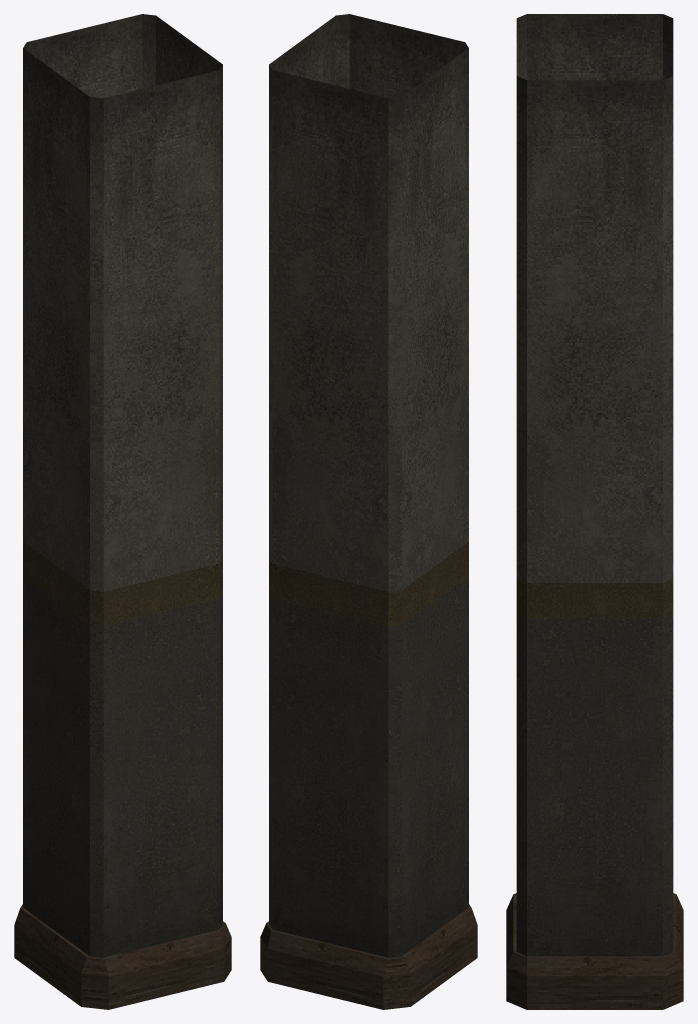
The model's file is pillar_1.glb.
3 renders of one model, left to right at view 1: azimuth 30°, elevation 25°; view 2: azimuth 150°, elevation 25°; view 3: azimuth 270°, elevation 25°, orthographic.
Visible parts, largest first — view 1: pillar_1; view 2: pillar_1; view 3: pillar_1.
Boxes of the visible parts, x1=… form: pillar_1: x1=14, y1=14, x2=231, y2=1009; pillar_1: x1=260, y1=14, x2=477, y2=1009; pillar_1: x1=506, y1=14, x2=683, y2=1009.
Bounding box in the file's own units: 0.52 × 3 × 0.52.
Materials: 2 (2 with a texture image).
